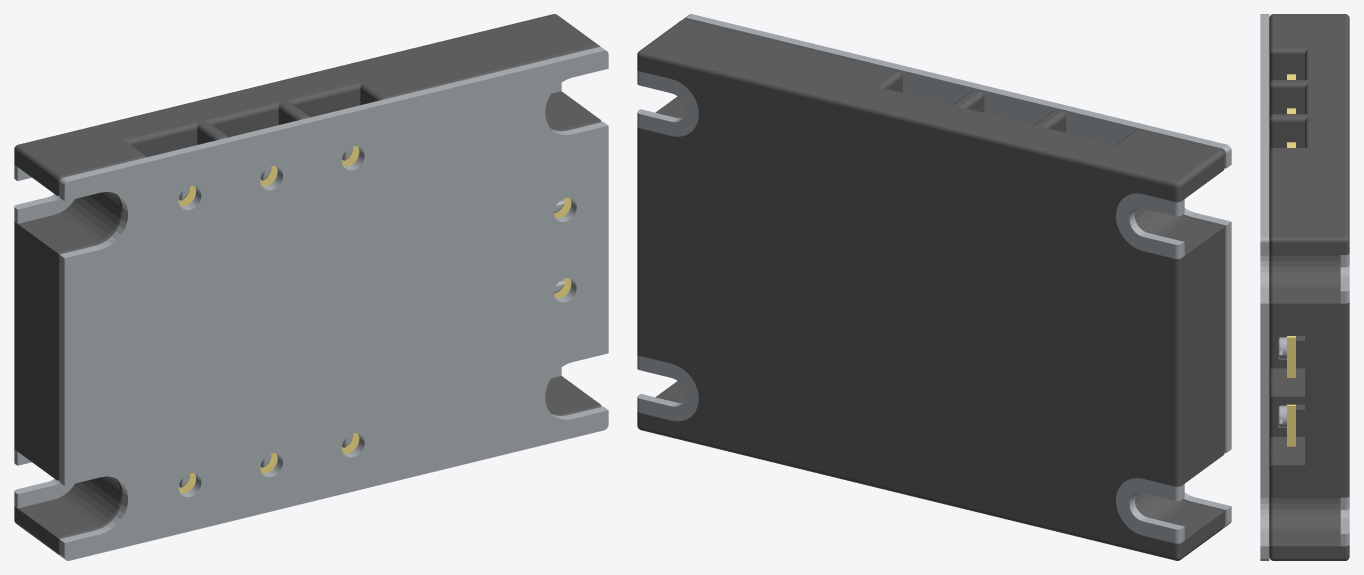
The model's file is relay_model.glb.
3 views of the same model, side by side, from view 1: azimuth 30°, elevation 25°; view 2: azimuth 150°, elevation 25°; view 3: azimuth 270°, elevation 25° (orthographic). The views are drawn at different scales.
Bounding box in the file's own units: 0.12 × 0.08 × 0.02.
